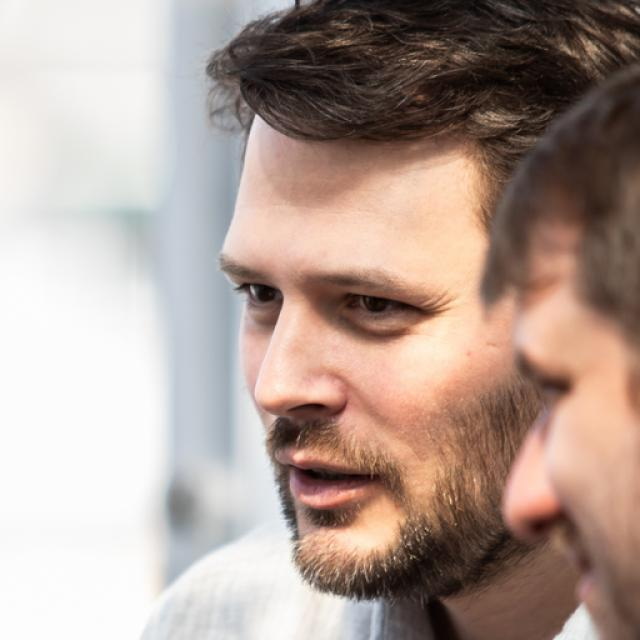content: (215, 78, 515, 598)
